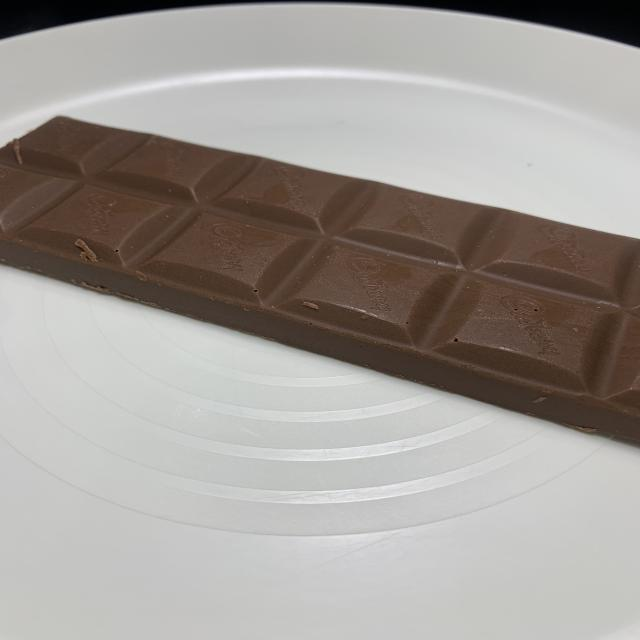Chocolate: (0, 112, 640, 448)
